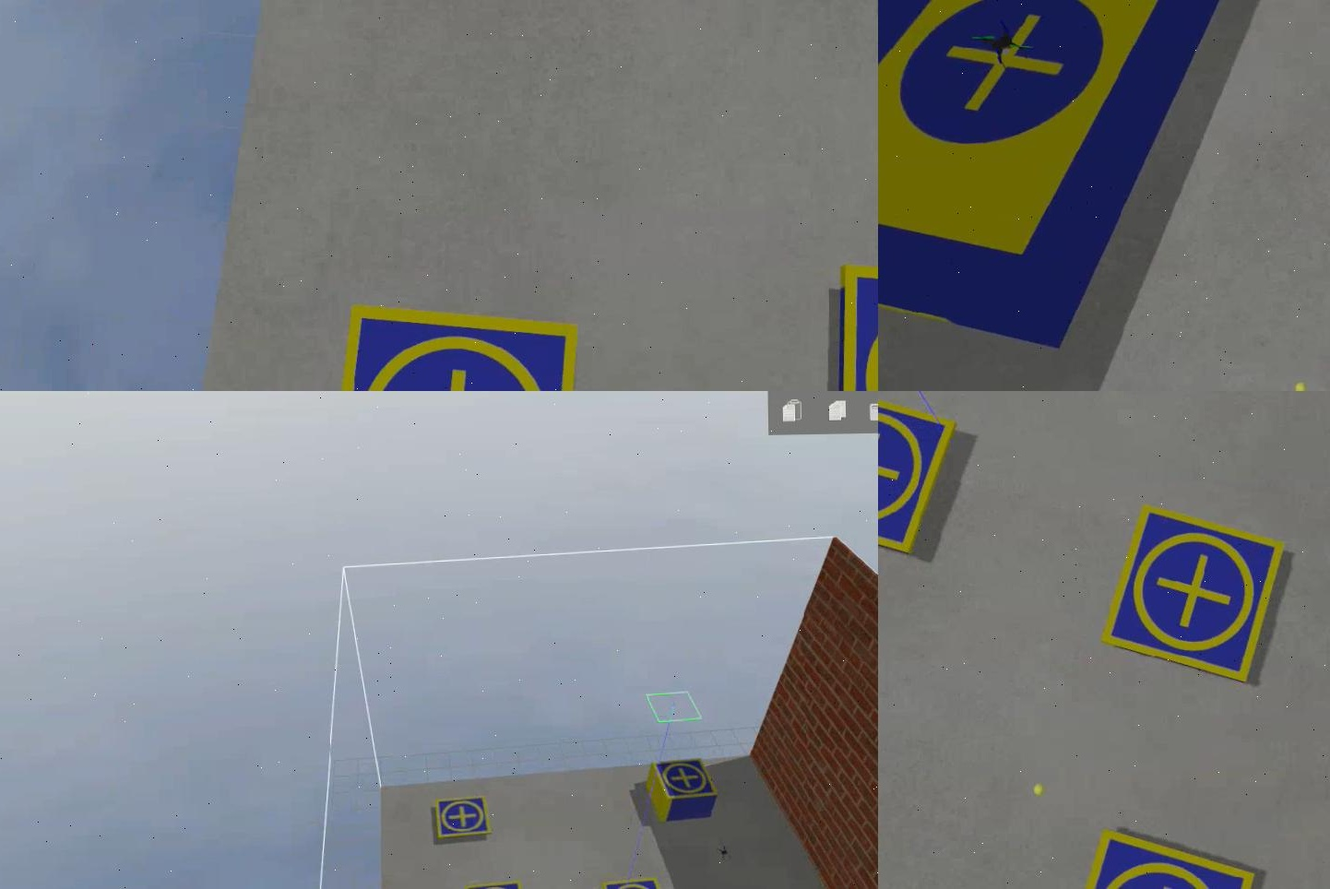large_base: (877, 1, 1255, 358)
small_base: (1090, 506, 1287, 683), (317, 302, 578, 391), (1052, 828, 1261, 889), (877, 391, 951, 554), (649, 757, 716, 797), (432, 794, 490, 839), (601, 876, 671, 889)
